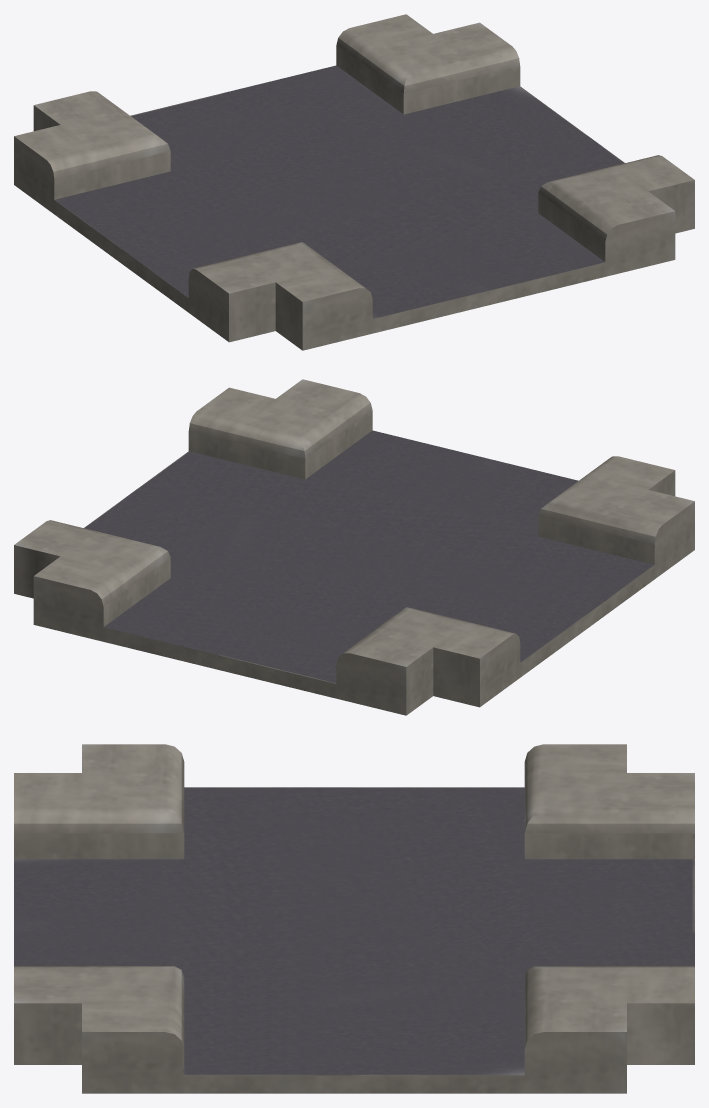
File: RoadFourSides.fbx
The picture shows the model from 3 angles, top to bottom: view 1: azimuth 30°, elevation 25°; view 2: azimuth 150°, elevation 25°; view 3: azimuth 270°, elevation 25°; orthographic projection. The views are drawn at different scales.
Parts seen in each view (by area): view 1: RoadFourSide; view 2: RoadFourSide; view 3: RoadFourSide.
Boxes of the visible parts, box(x1,y1,x2,y2) form: RoadFourSide: box(14, 14, 694, 350); RoadFourSide: box(14, 379, 694, 715); RoadFourSide: box(14, 744, 694, 1093).
Bounding box in the file's own units: 100 × 10 × 100.
